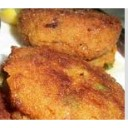cutlet: (5, 46, 126, 119), (17, 6, 121, 60)
